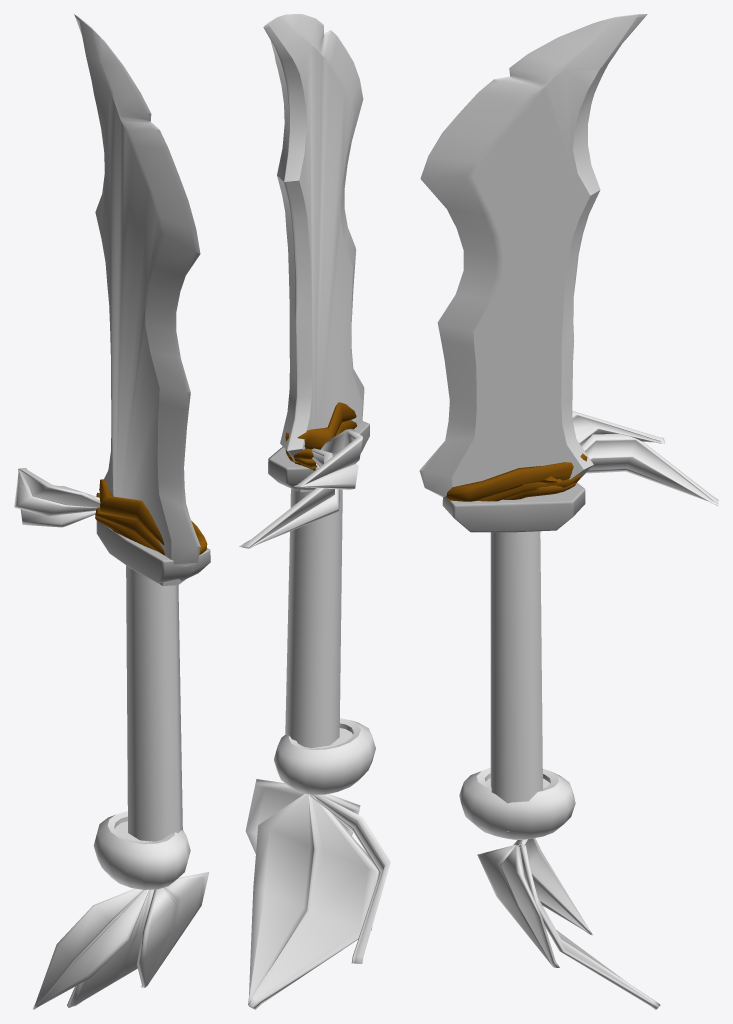
3 views of the same model, side by side, from view 1: azimuth 30°, elevation 25°; view 2: azimuth 150°, elevation 25°; view 3: azimuth 270°, elevation 25° (orthographic).
Parts seen in each view (by area): view 1: blade, tool_dagger_handle, leaves_002, Sphere_3, leaves_003, tie_001; view 2: blade, leaves_002, tool_dagger_handle, Sphere_3, leaves_003, tie_001; view 3: blade, tool_dagger_handle, leaves_002, Sphere_3, leaves_003, tie_001.
Boxes of the visible parts, x1=… form: blade: x1=74, y1=14, x2=200, y2=585; tool_dagger_handle: x1=96, y1=521, x2=210, y2=841; leaves_002: x1=33, y1=872, x2=209, y2=1009; Sphere_3: x1=93, y1=811, x2=190, y2=889; leaves_003: x1=14, y1=468, x2=100, y2=527; tie_001: x1=95, y1=479, x2=207, y2=555; blade: x1=263, y1=14, x2=364, y2=492; leaves_002: x1=245, y1=779, x2=390, y2=1009; tool_dagger_handle: x1=268, y1=421, x2=369, y2=747; Sphere_3: x1=274, y1=718, x2=375, y2=794; leaves_003: x1=239, y1=428, x2=362, y2=548; tie_001: x1=285, y1=402, x2=356, y2=470; blade: x1=419, y1=14, x2=647, y2=497; tool_dagger_handle: x1=442, y1=483, x2=585, y2=831; leaves_002: x1=477, y1=838, x2=660, y2=1009; Sphere_3: x1=459, y1=767, x2=575, y2=839; leaves_003: x1=572, y1=411, x2=718, y2=505; tie_001: x1=446, y1=453, x2=587, y2=501.
Bounding box in the file's own units: 16.05 × 103 × 28.02.
